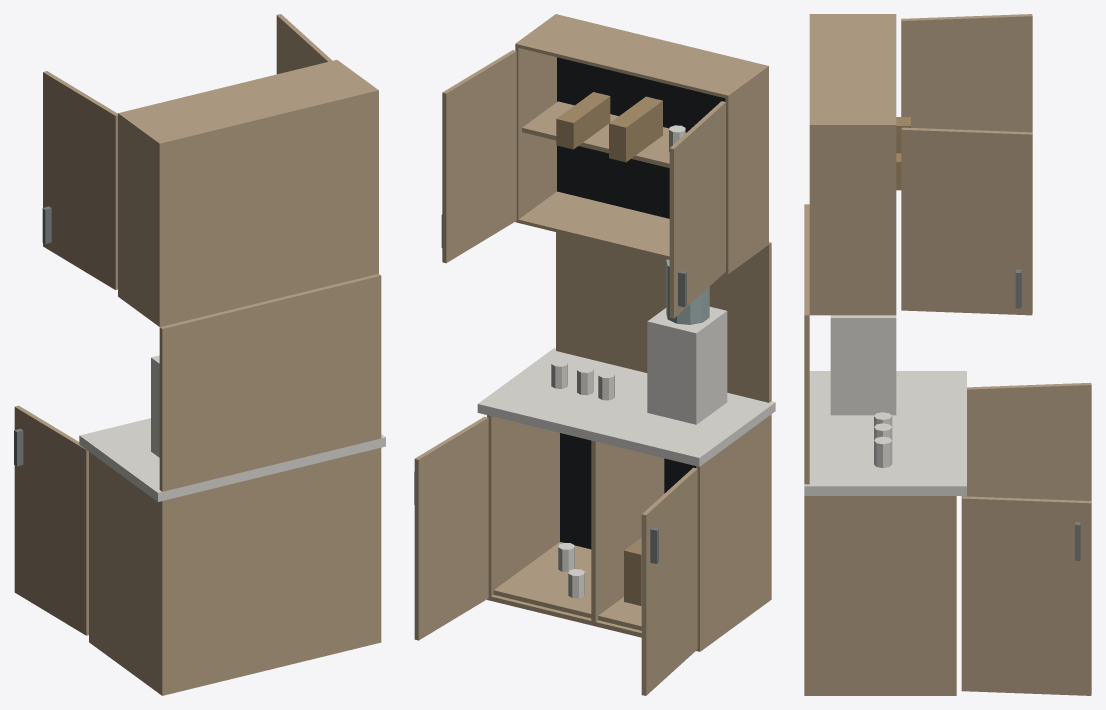
File: tea_niche.fbx
3 renders of one model, left to right at view 1: azimuth 30°, elevation 25°; view 2: azimuth 150°, elevation 25°; view 3: azimuth 270°, elevation 25°, orthographic. The views are drawn at different scales.
Parts seen in each view (by area): view 1: tea_niche, tea_niche_lowerL, tea_niche_upperL, tea_niche_upperR; view 2: tea_niche, tea_niche_lowerR, tea_niche_upperR, tea_niche_lowerL, tea_niche_upperL; view 3: tea_niche, tea_niche_lowerR, tea_niche_upperR, tea_niche_upperL, tea_niche_lowerL.
Boxes of the visible parts, left/top/right/bottom form: tea_niche: left=79, top=60, right=385, bottom=695; tea_niche_lowerL: left=14, top=405, right=88, bottom=635; tea_niche_upperL: left=42, top=71, right=117, bottom=289; tea_niche_upperR: left=276, top=14, right=332, bottom=74; tea_niche: left=477, top=14, right=775, bottom=651; tea_niche_lowerR: left=414, top=416, right=488, bottom=640; tea_niche_upperR: left=441, top=50, right=516, bottom=263; tea_niche_lowerL: left=641, top=467, right=697, bottom=695; tea_niche_upperL: left=669, top=101, right=725, bottom=318; tea_niche: left=804, top=14, right=966, bottom=695; tea_niche_lowerR: left=961, top=496, right=1091, bottom=695; tea_niche_upperR: left=901, top=127, right=1032, bottom=315; tea_niche_upperL: left=901, top=14, right=1032, bottom=132; tea_niche_lowerL: left=961, top=382, right=1091, bottom=500.
Size of the model in its own units: 1.14 by 2.4 by 1.09.
